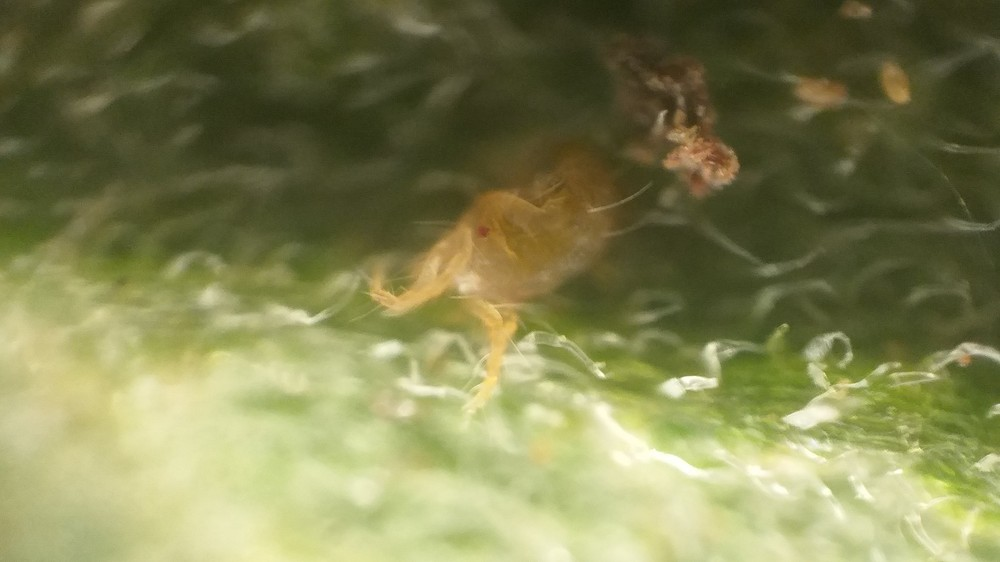Aracnido Rojo: (357, 129, 653, 413)
